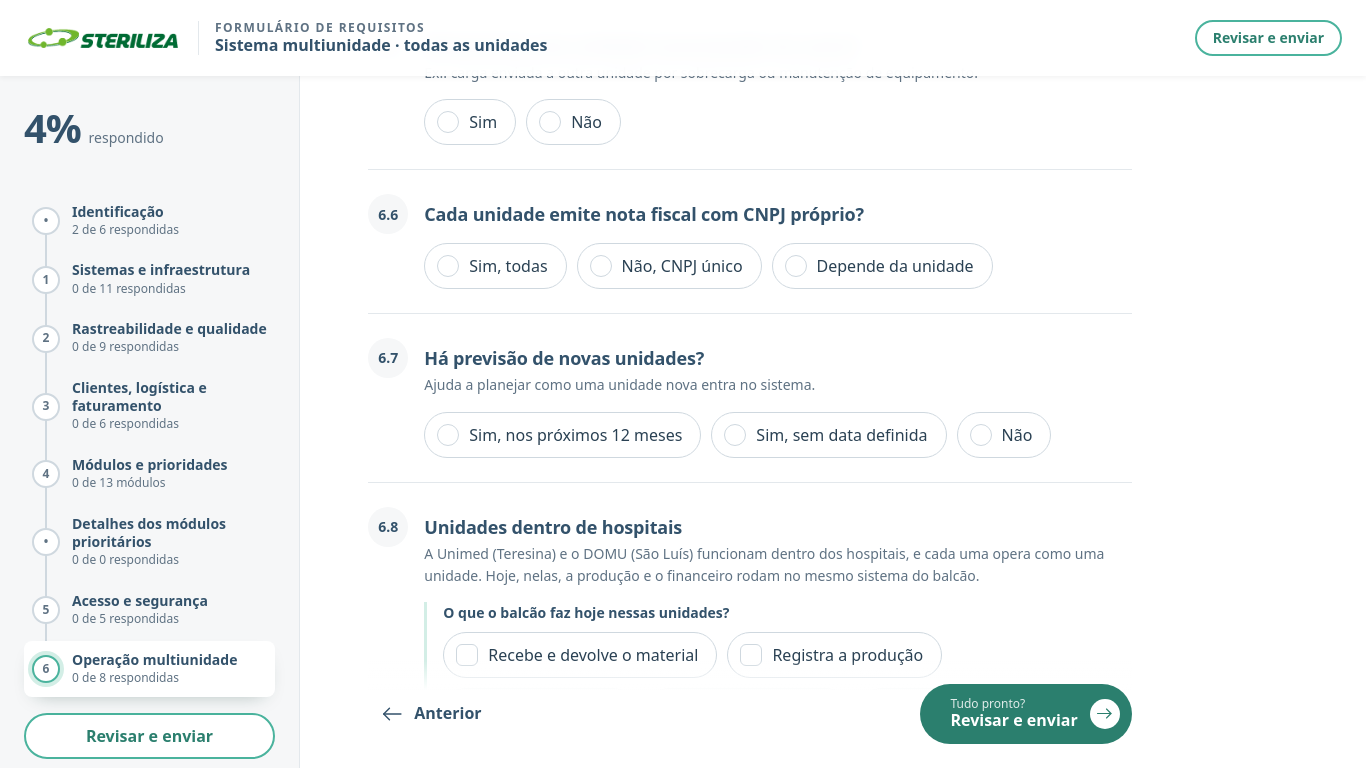
Test: campos de texto › pergunta onde serão as novas unidades só quando há previsão
(page scrolled)
Expected: the field labelled "Onde?" is not shown
What coordinates should you click on to do the following:
click the radio button labelled "Sim, sem data definida"
I would click on:
 (829, 435)
Its box is [711,412,947,458].
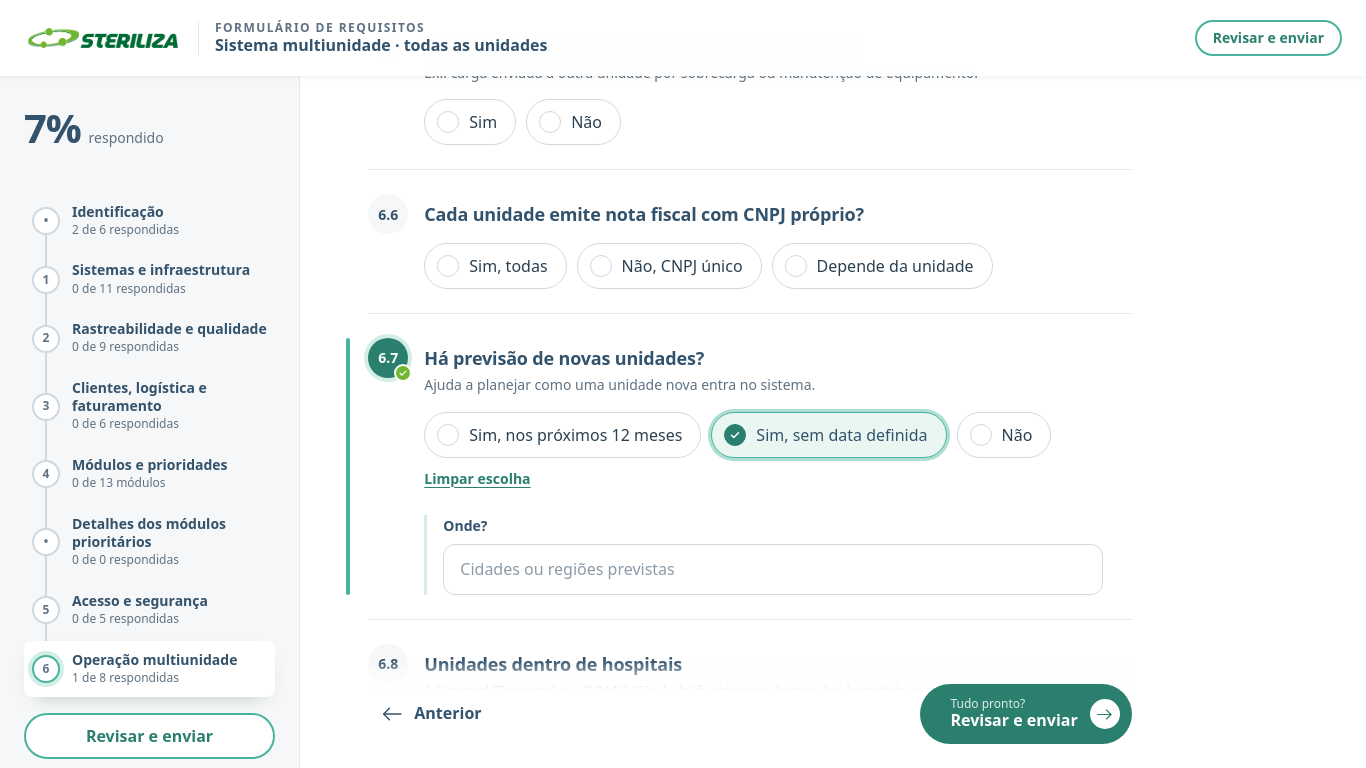
Expected: the field labelled "Onde?" is shown, [443,544,1103,595]
